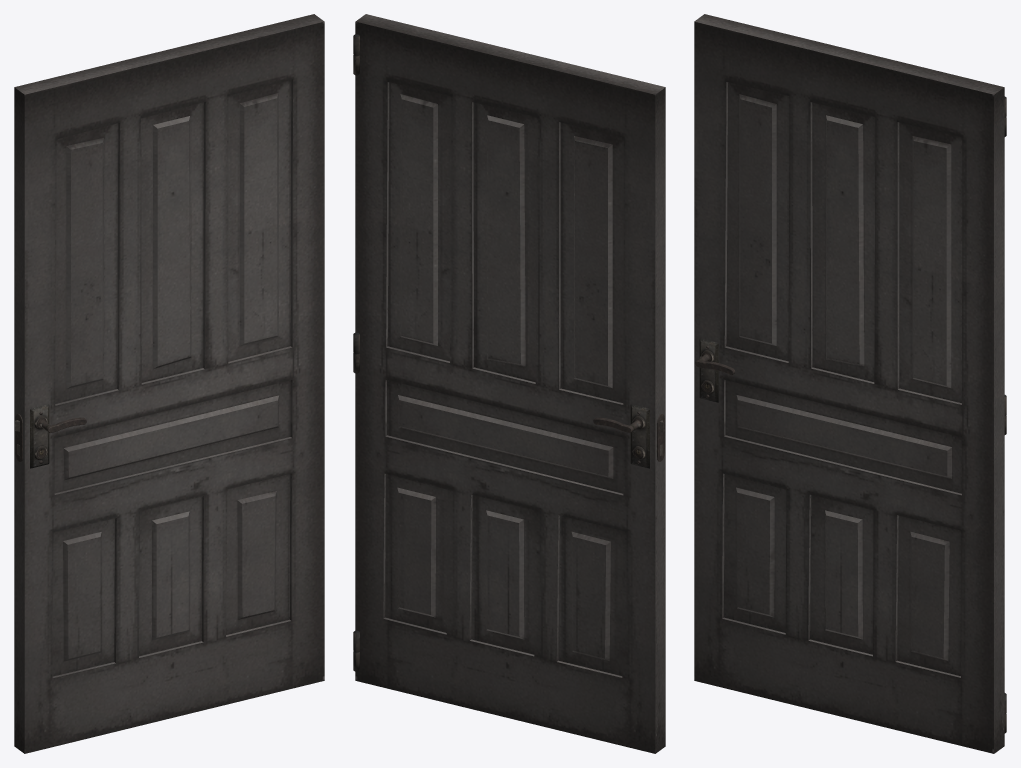
Rendered from door_1.obj.
The picture shows the model from 3 angles, left to right: view 1: azimuth 30°, elevation 25°; view 2: azimuth 150°, elevation 25°; view 3: azimuth 330°, elevation 25°; orthographic projection.
Parts seen in each view (by area): view 1: door_1; view 2: door_1; view 3: door_1.
Part boxes in pixels (<box>): door_1: <box>14,14,324,753</box>; door_1: <box>353,14,665,753</box>; door_1: <box>694,14,1006,753</box>.
Size of the model in its own units: 1.01 by 2.1 by 0.194.
